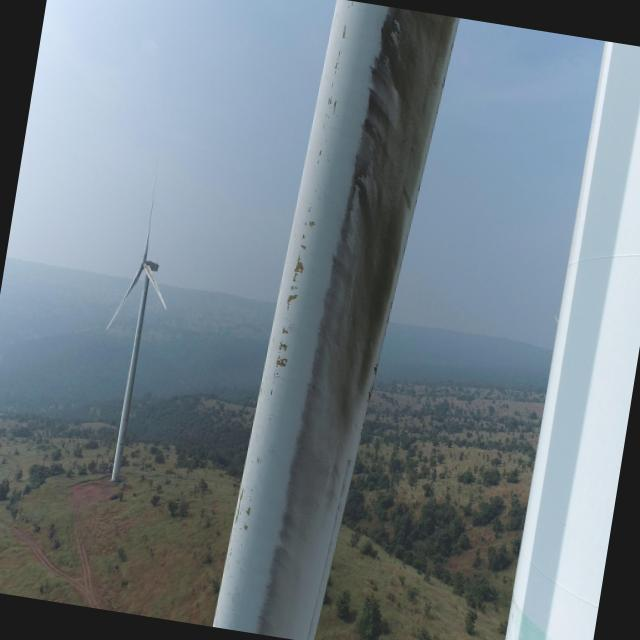Dirt: (247, 9, 450, 640)
